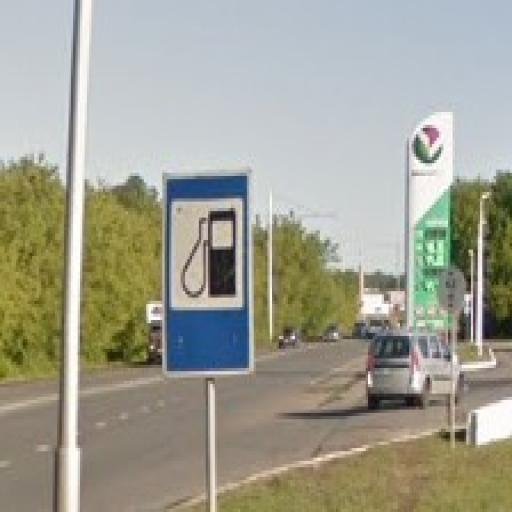traffic_sign: (163, 168, 257, 379)
